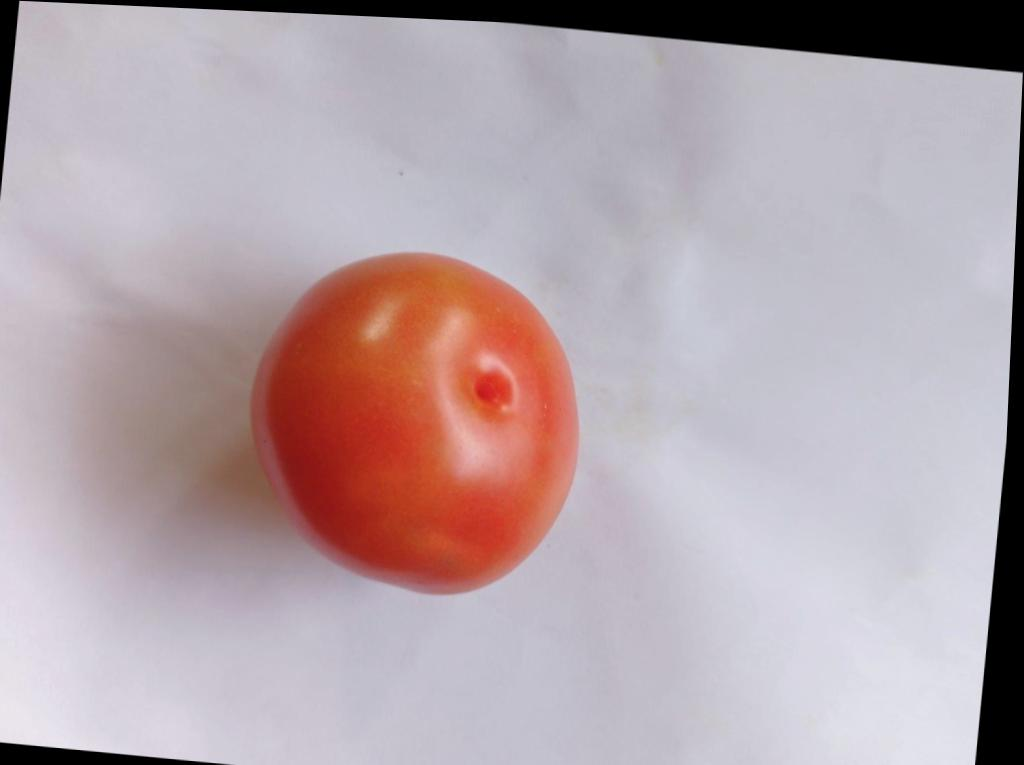tomato: (252, 253, 578, 593)
